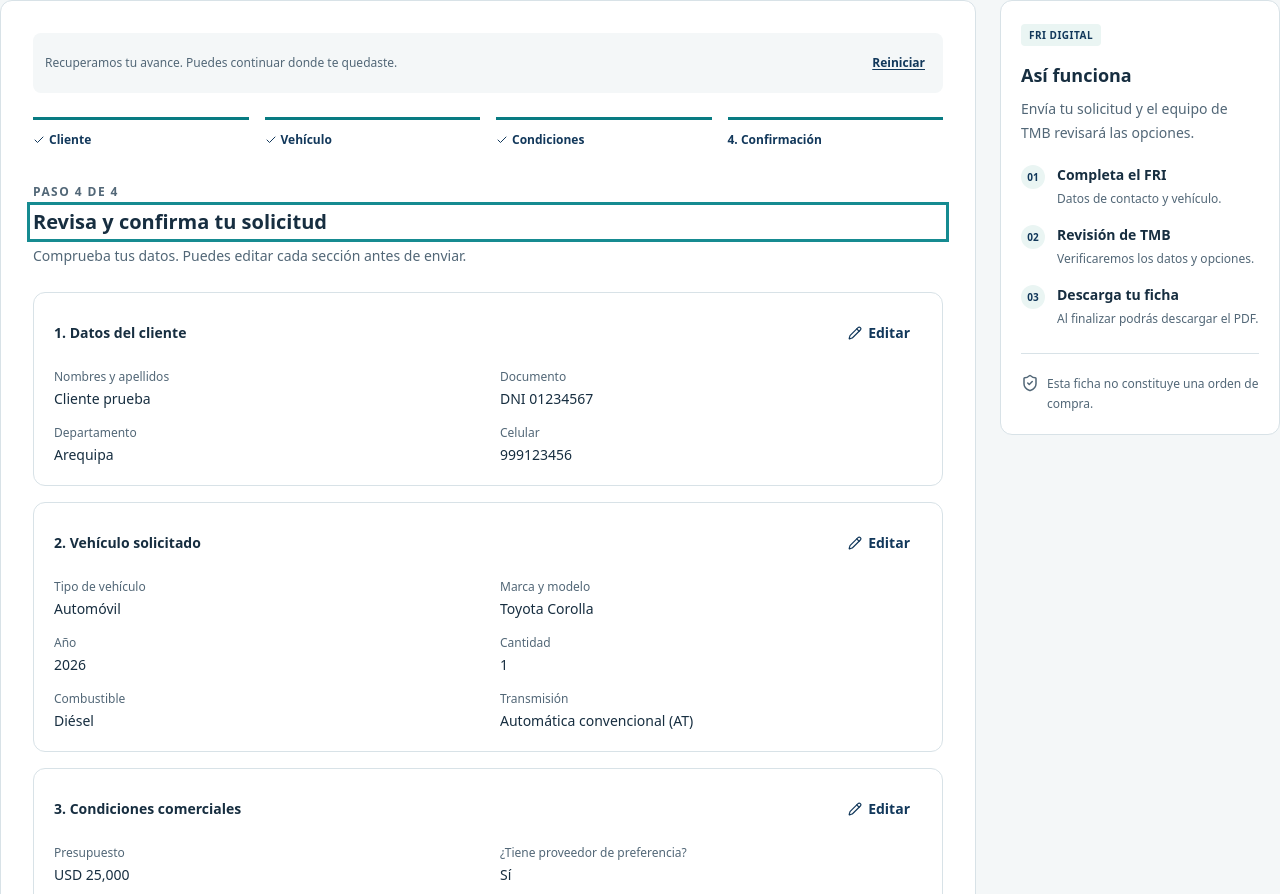
Test: Flujo público FRI › edita desde el resumen y Enter vuelve a confirmar sin enviar la solicitud
Click the button with aria-label "Editar datos del cliente" at (879, 333), box x1=836 y1=313 x2=922 y2=353
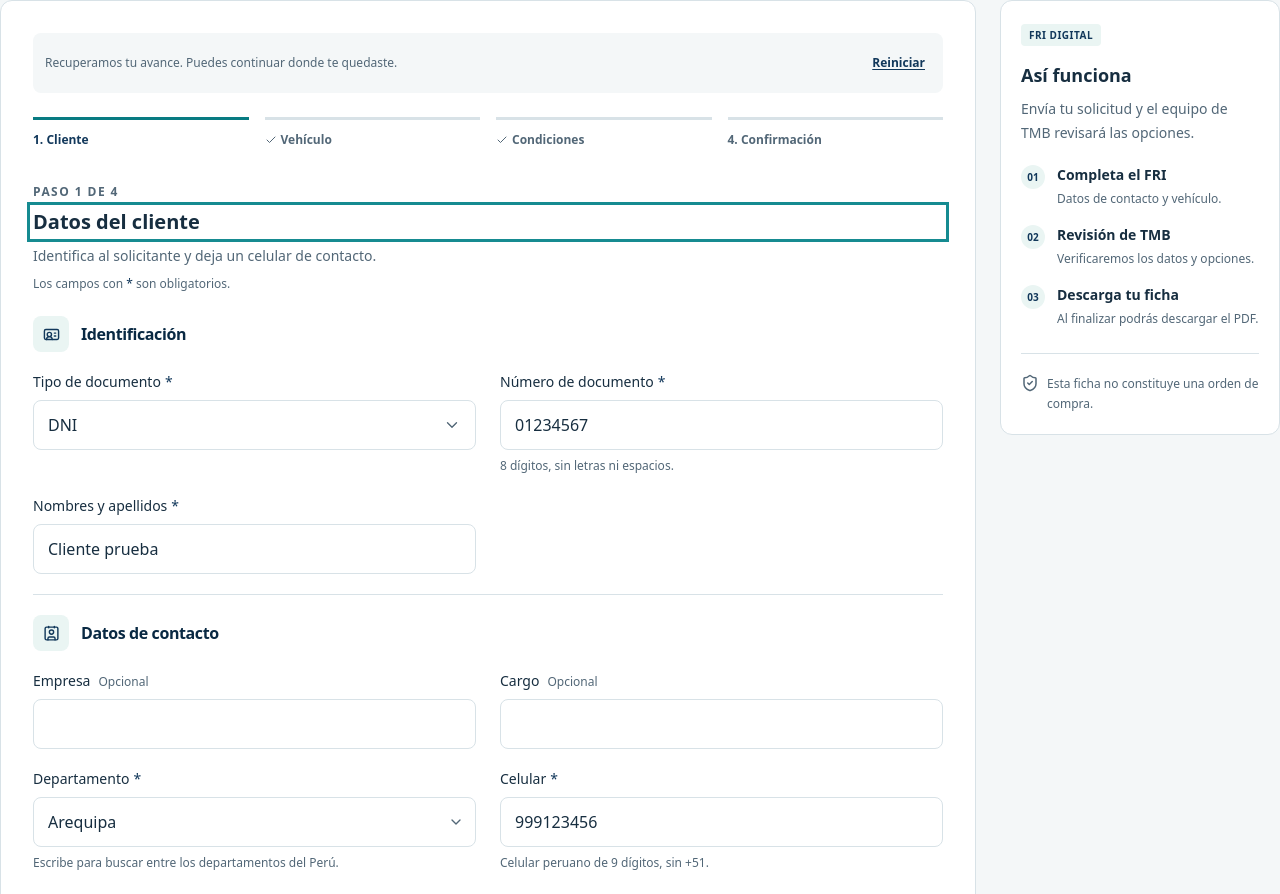
Replace the text in the field labelled "Nombres y apellidos*" with "Cliente actualizado" at (254, 549), box x1=33 y1=524 x2=476 y2=574
Then press Enter
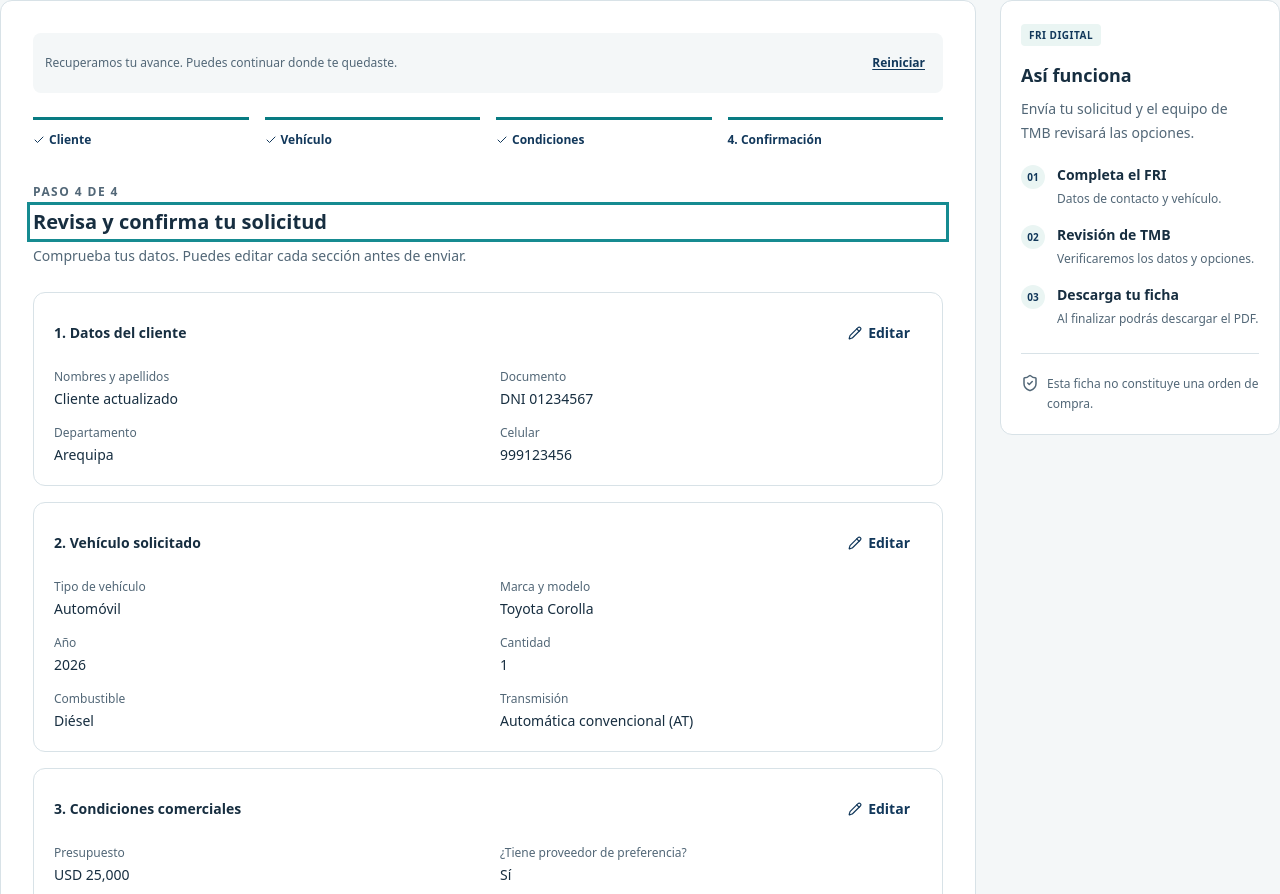
expect the heading "Revisa y confirma tu solicitud" is shown: met, box x1=33 y1=208 x2=327 y2=235
expect the text "Cliente actualizado" is shown: met, box x1=54 y1=389 x2=178 y2=408
